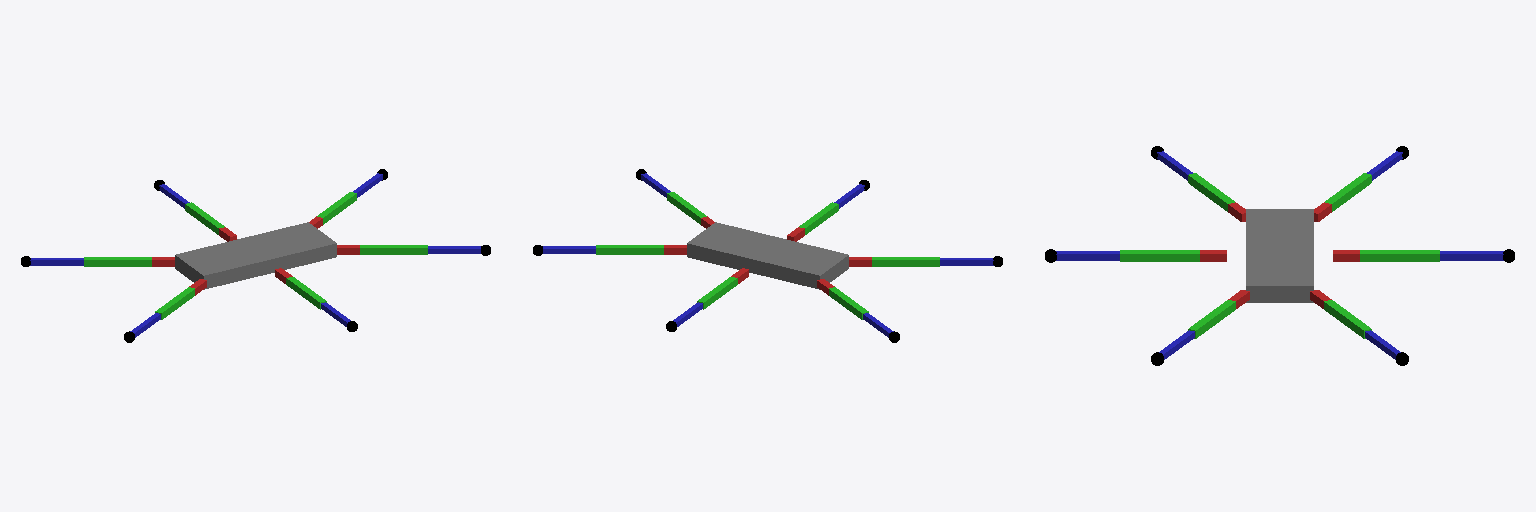
robot.urdf — slarc:
<?xml version="1.0"?>
<robot name="slarc">
    <link name="base_link">
        <visual><geometry><box size="0.4 0.15 0.04"/></geometry><material name="grey"><color rgba="0.5 0.5 0.5 1"/></material></visual>
        <collision><geometry><box size="0.4 0.15 0.04"/></geometry></collision>
        <inertial><mass value="1.29"/><inertia ixx="0.015" ixy="0" ixz="0" iyy="0.015" iyz="0" izz="0.015"/></inertial>
    </link>
    <joint name="front_right_coxa_joint" type="revolute">
        <parent link="base_link"/><child link="front_right_coxa"/>
        <origin xyz="0.2 -0.075 0" rpy="0 0 -0.5235987755982988"/><axis xyz="0 0 1"/>
        <limit lower="-3.14" upper="3.14" effort="3.0" velocity="3.14"/>
    </joint>
    <link name="front_right_coxa">
        <visual><origin xyz="0.03 0 0"/><geometry><box size="0.06 0.02 0.02"/></geometry><material name="red"><color rgba="0.8 0.2 0.2 1"/></material></visual>
        <collision><origin xyz="0.03 0 0"/><geometry><box size="0.06 0.02 0.02"/></geometry></collision>
        <inertial><mass value="0.080"/><inertia ixx="0.0002" ixy="0" ixz="0" iyy="0.0002" iyz="0" izz="0.0002"/></inertial>
    </link>
    <joint name="front_right_femur_joint" type="revolute">
        <parent link="front_right_coxa"/><child link="front_right_femur"/>
        <origin xyz="0.06 0 0" rpy="0 0 0"/><axis xyz="0 1 0"/>
        <limit lower="-3.14" upper="3.14" effort="3.0" velocity="3.14"/>
    </joint>
    <link name="front_right_femur">
        <visual><origin xyz="0.0875 0 0"/><geometry><box size="0.175 0.02 0.02"/></geometry><material name="green"><color rgba="0.2 0.8 0.2 1"/></material></visual>
        <collision><origin xyz="0.0875 0 0"/><geometry><box size="0.175 0.02 0.02"/></geometry></collision>
        <inertial><mass value="0.095"/><inertia ixx="0.0003" ixy="0" ixz="0" iyy="0.0003" iyz="0" izz="0.0003"/></inertial>
    </link>
    <joint name="front_right_tibia_joint" type="revolute">
        <parent link="front_right_femur"/><child link="front_right_tibia"/>
        <origin xyz="0.175 0 0" rpy="0 0 0"/><axis xyz="0 1 0"/>
        <limit lower="-3.14" upper="3.14" effort="3.0" velocity="3.14"/>
    </joint>
    <link name="front_right_tibia">
        <visual><origin xyz="0.075 0 0"/><geometry><box size="0.15 0.015 0.015"/></geometry><material name="blue"><color rgba="0.2 0.2 0.8 1"/></material></visual>
        <collision><origin xyz="0.075 0 0"/><geometry><box size="0.15 0.015 0.015"/></geometry></collision>
        <inertial><mass value="0.025"/><inertia ixx="0.0001" ixy="0" ixz="0" iyy="0.0001" iyz="0" izz="0.0001"/></inertial>
    </link>
    <joint name="front_right_foot_joint" type="fixed">
        <parent link="front_right_tibia"/><child link="front_right_foot"/>
        <origin xyz="0.15 0 0" rpy="0 0 0"/>
    </joint>
    <link name="front_right_foot">
        <visual><geometry><sphere radius="0.015"/></geometry><material name="black"><color rgba="0 0 0 1"/></material></visual>
        <collision><geometry><sphere radius="0.015"/></geometry></collision>
        <inertial><mass value="0.015"/><inertia ixx="0.00002" ixy="0" ixz="0" iyy="0.00002" iyz="0" izz="0.00002"/></inertial>
    </link>
    <joint name="front_left_coxa_joint" type="revolute">
        <parent link="base_link"/><child link="front_left_coxa"/>
        <origin xyz="0.2 0.075 0" rpy="0 0 0.5235987755982988"/><axis xyz="0 0 1"/>
        <limit lower="-3.14" upper="3.14" effort="3.0" velocity="3.14"/>
    </joint>
    <link name="front_left_coxa">
        <visual><origin xyz="0.03 0 0"/><geometry><box size="0.06 0.02 0.02"/></geometry><material name="red"><color rgba="0.8 0.2 0.2 1"/></material></visual>
        <collision><origin xyz="0.03 0 0"/><geometry><box size="0.06 0.02 0.02"/></geometry></collision>
        <inertial><mass value="0.080"/><inertia ixx="0.0002" ixy="0" ixz="0" iyy="0.0002" iyz="0" izz="0.0002"/></inertial>
    </link>
    <joint name="front_left_femur_joint" type="revolute">
        <parent link="front_left_coxa"/><child link="front_left_femur"/>
        <origin xyz="0.06 0 0" rpy="0 0 0"/><axis xyz="0 1 0"/>
        <limit lower="-3.14" upper="3.14" effort="3.0" velocity="3.14"/>
    </joint>
    <link name="front_left_femur">
        <visual><origin xyz="0.0875 0 0"/><geometry><box size="0.175 0.02 0.02"/></geometry><material name="green"><color rgba="0.2 0.8 0.2 1"/></material></visual>
        <collision><origin xyz="0.0875 0 0"/><geometry><box size="0.175 0.02 0.02"/></geometry></collision>
        <inertial><mass value="0.095"/><inertia ixx="0.0003" ixy="0" ixz="0" iyy="0.0003" iyz="0" izz="0.0003"/></inertial>
    </link>
    <joint name="front_left_tibia_joint" type="revolute">
        <parent link="front_left_femur"/><child link="front_left_tibia"/>
        <origin xyz="0.175 0 0" rpy="0 0 0"/><axis xyz="0 1 0"/>
        <limit lower="-3.14" upper="3.14" effort="3.0" velocity="3.14"/>
    </joint>
    <link name="front_left_tibia">
        <visual><origin xyz="0.075 0 0"/><geometry><box size="0.15 0.015 0.015"/></geometry><material name="blue"><color rgba="0.2 0.2 0.8 1"/></material></visual>
        <collision><origin xyz="0.075 0 0"/><geometry><box size="0.15 0.015 0.015"/></geometry></collision>
        <inertial><mass value="0.025"/><inertia ixx="0.0001" ixy="0" ixz="0" iyy="0.0001" iyz="0" izz="0.0001"/></inertial>
    </link>
    <joint name="front_left_foot_joint" type="fixed">
        <parent link="front_left_tibia"/><child link="front_left_foot"/>
        <origin xyz="0.15 0 0" rpy="0 0 0"/>
    </joint>
    <link name="front_left_foot">
        <visual><geometry><sphere radius="0.015"/></geometry><material name="black"><color rgba="0 0 0 1"/></material></visual>
        <collision><geometry><sphere radius="0.015"/></geometry></collision>
        <inertial><mass value="0.015"/><inertia ixx="0.00002" ixy="0" ixz="0" iyy="0.00002" iyz="0" izz="0.00002"/></inertial>
    </link>
    <joint name="mid_right_coxa_joint" type="revolute">
        <parent link="base_link"/><child link="mid_right_coxa"/>
        <origin xyz="0 -0.11499999999999999 0" rpy="0 0 -1.5707963267948966"/><axis xyz="0 0 1"/>
        <limit lower="-3.14" upper="3.14" effort="3.0" velocity="3.14"/>
    </joint>
    <link name="mid_right_coxa">
        <visual><origin xyz="0.03 0 0"/><geometry><box size="0.06 0.02 0.02"/></geometry><material name="red"><color rgba="0.8 0.2 0.2 1"/></material></visual>
        <collision><origin xyz="0.03 0 0"/><geometry><box size="0.06 0.02 0.02"/></geometry></collision>
        <inertial><mass value="0.080"/><inertia ixx="0.0002" ixy="0" ixz="0" iyy="0.0002" iyz="0" izz="0.0002"/></inertial>
    </link>
    <joint name="mid_right_femur_joint" type="revolute">
        <parent link="mid_right_coxa"/><child link="mid_right_femur"/>
        <origin xyz="0.06 0 0" rpy="0 0 0"/><axis xyz="0 1 0"/>
        <limit lower="-3.14" upper="3.14" effort="3.0" velocity="3.14"/>
    </joint>
    <link name="mid_right_femur">
        <visual><origin xyz="0.0875 0 0"/><geometry><box size="0.175 0.02 0.02"/></geometry><material name="green"><color rgba="0.2 0.8 0.2 1"/></material></visual>
        <collision><origin xyz="0.0875 0 0"/><geometry><box size="0.175 0.02 0.02"/></geometry></collision>
        <inertial><mass value="0.095"/><inertia ixx="0.0003" ixy="0" ixz="0" iyy="0.0003" iyz="0" izz="0.0003"/></inertial>
    </link>
    <joint name="mid_right_tibia_joint" type="revolute">
        <parent link="mid_right_femur"/><child link="mid_right_tibia"/>
        <origin xyz="0.175 0 0" rpy="0 0 0"/><axis xyz="0 1 0"/>
        <limit lower="-3.14" upper="3.14" effort="3.0" velocity="3.14"/>
    </joint>
    <link name="mid_right_tibia">
        <visual><origin xyz="0.075 0 0"/><geometry><box size="0.15 0.015 0.015"/></geometry><material name="blue"><color rgba="0.2 0.2 0.8 1"/></material></visual>
        <collision><origin xyz="0.075 0 0"/><geometry><box size="0.15 0.015 0.015"/></geometry></collision>
        <inertial><mass value="0.025"/><inertia ixx="0.0001" ixy="0" ixz="0" iyy="0.0001" iyz="0" izz="0.0001"/></inertial>
    </link>
    <joint name="mid_right_foot_joint" type="fixed">
        <parent link="mid_right_tibia"/><child link="mid_right_foot"/>
        <origin xyz="0.15 0 0" rpy="0 0 0"/>
    </joint>
    <link name="mid_right_foot">
        <visual><geometry><sphere radius="0.015"/></geometry><material name="black"><color rgba="0 0 0 1"/></material></visual>
        <collision><geometry><sphere radius="0.015"/></geometry></collision>
        <inertial><mass value="0.015"/><inertia ixx="0.00002" ixy="0" ixz="0" iyy="0.00002" iyz="0" izz="0.00002"/></inertial>
    </link>
    <joint name="mid_left_coxa_joint" type="revolute">
        <parent link="base_link"/><child link="mid_left_coxa"/>
        <origin xyz="0 0.11499999999999999 0" rpy="0 0 1.5707963267948966"/><axis xyz="0 0 1"/>
        <limit lower="-3.14" upper="3.14" effort="3.0" velocity="3.14"/>
    </joint>
    <link name="mid_left_coxa">
        <visual><origin xyz="0.03 0 0"/><geometry><box size="0.06 0.02 0.02"/></geometry><material name="red"><color rgba="0.8 0.2 0.2 1"/></material></visual>
        <collision><origin xyz="0.03 0 0"/><geometry><box size="0.06 0.02 0.02"/></geometry></collision>
        <inertial><mass value="0.080"/><inertia ixx="0.0002" ixy="0" ixz="0" iyy="0.0002" iyz="0" izz="0.0002"/></inertial>
    </link>
    <joint name="mid_left_femur_joint" type="revolute">
        <parent link="mid_left_coxa"/><child link="mid_left_femur"/>
        <origin xyz="0.06 0 0" rpy="0 0 0"/><axis xyz="0 1 0"/>
        <limit lower="-3.14" upper="3.14" effort="3.0" velocity="3.14"/>
    </joint>
    <link name="mid_left_femur">
        <visual><origin xyz="0.0875 0 0"/><geometry><box size="0.175 0.02 0.02"/></geometry><material name="green"><color rgba="0.2 0.8 0.2 1"/></material></visual>
        <collision><origin xyz="0.0875 0 0"/><geometry><box size="0.175 0.02 0.02"/></geometry></collision>
        <inertial><mass value="0.095"/><inertia ixx="0.0003" ixy="0" ixz="0" iyy="0.0003" iyz="0" izz="0.0003"/></inertial>
    </link>
    <joint name="mid_left_tibia_joint" type="revolute">
        <parent link="mid_left_femur"/><child link="mid_left_tibia"/>
        <origin xyz="0.175 0 0" rpy="0 0 0"/><axis xyz="0 1 0"/>
        <limit lower="-3.14" upper="3.14" effort="3.0" velocity="3.14"/>
    </joint>
    <link name="mid_left_tibia">
        <visual><origin xyz="0.075 0 0"/><geometry><box size="0.15 0.015 0.015"/></geometry><material name="blue"><color rgba="0.2 0.2 0.8 1"/></material></visual>
        <collision><origin xyz="0.075 0 0"/><geometry><box size="0.15 0.015 0.015"/></geometry></collision>
        <inertial><mass value="0.025"/><inertia ixx="0.0001" ixy="0" ixz="0" iyy="0.0001" iyz="0" izz="0.0001"/></inertial>
    </link>
    <joint name="mid_left_foot_joint" type="fixed">
        <parent link="mid_left_tibia"/><child link="mid_left_foot"/>
        <origin xyz="0.15 0 0" rpy="0 0 0"/>
    </joint>
    <link name="mid_left_foot">
        <visual><geometry><sphere radius="0.015"/></geometry><material name="black"><color rgba="0 0 0 1"/></material></visual>
        <collision><geometry><sphere radius="0.015"/></geometry></collision>
        <inertial><mass value="0.015"/><inertia ixx="0.00002" ixy="0" ixz="0" iyy="0.00002" iyz="0" izz="0.00002"/></inertial>
    </link>
    <joint name="rear_right_coxa_joint" type="revolute">
        <parent link="base_link"/><child link="rear_right_coxa"/>
        <origin xyz="-0.2 -0.075 0" rpy="0 0 -2.6179938779914944"/><axis xyz="0 0 1"/>
        <limit lower="-3.14" upper="3.14" effort="3.0" velocity="3.14"/>
    </joint>
    <link name="rear_right_coxa">
        <visual><origin xyz="0.03 0 0"/><geometry><box size="0.06 0.02 0.02"/></geometry><material name="red"><color rgba="0.8 0.2 0.2 1"/></material></visual>
        <collision><origin xyz="0.03 0 0"/><geometry><box size="0.06 0.02 0.02"/></geometry></collision>
        <inertial><mass value="0.080"/><inertia ixx="0.0002" ixy="0" ixz="0" iyy="0.0002" iyz="0" izz="0.0002"/></inertial>
    </link>
    <joint name="rear_right_femur_joint" type="revolute">
        <parent link="rear_right_coxa"/><child link="rear_right_femur"/>
        <origin xyz="0.06 0 0" rpy="0 0 0"/><axis xyz="0 1 0"/>
        <limit lower="-3.14" upper="3.14" effort="3.0" velocity="3.14"/>
    </joint>
    <link name="rear_right_femur">
        <visual><origin xyz="0.0875 0 0"/><geometry><box size="0.175 0.02 0.02"/></geometry><material name="green"><color rgba="0.2 0.8 0.2 1"/></material></visual>
        <collision><origin xyz="0.0875 0 0"/><geometry><box size="0.175 0.02 0.02"/></geometry></collision>
        <inertial><mass value="0.095"/><inertia ixx="0.0003" ixy="0" ixz="0" iyy="0.0003" iyz="0" izz="0.0003"/></inertial>
    </link>
    <joint name="rear_right_tibia_joint" type="revolute">
        <parent link="rear_right_femur"/><child link="rear_right_tibia"/>
        <origin xyz="0.175 0 0" rpy="0 0 0"/><axis xyz="0 1 0"/>
        <limit lower="-3.14" upper="3.14" effort="3.0" velocity="3.14"/>
    </joint>
    <link name="rear_right_tibia">
        <visual><origin xyz="0.075 0 0"/><geometry><box size="0.15 0.015 0.015"/></geometry><material name="blue"><color rgba="0.2 0.2 0.8 1"/></material></visual>
        <collision><origin xyz="0.075 0 0"/><geometry><box size="0.15 0.015 0.015"/></geometry></collision>
        <inertial><mass value="0.025"/><inertia ixx="0.0001" ixy="0" ixz="0" iyy="0.0001" iyz="0" izz="0.0001"/></inertial>
    </link>
    <joint name="rear_right_foot_joint" type="fixed">
        <parent link="rear_right_tibia"/><child link="rear_right_foot"/>
        <origin xyz="0.15 0 0" rpy="0 0 0"/>
    </joint>
    <link name="rear_right_foot">
        <visual><geometry><sphere radius="0.015"/></geometry><material name="black"><color rgba="0 0 0 1"/></material></visual>
        <collision><geometry><sphere radius="0.015"/></geometry></collision>
        <inertial><mass value="0.015"/><inertia ixx="0.00002" ixy="0" ixz="0" iyy="0.00002" iyz="0" izz="0.00002"/></inertial>
    </link>
    <joint name="rear_left_coxa_joint" type="revolute">
        <parent link="base_link"/><child link="rear_left_coxa"/>
        <origin xyz="-0.2 0.075 0" rpy="0 0 2.6179938779914944"/><axis xyz="0 0 1"/>
        <limit lower="-3.14" upper="3.14" effort="3.0" velocity="3.14"/>
    </joint>
    <link name="rear_left_coxa">
        <visual><origin xyz="0.03 0 0"/><geometry><box size="0.06 0.02 0.02"/></geometry><material name="red"><color rgba="0.8 0.2 0.2 1"/></material></visual>
        <collision><origin xyz="0.03 0 0"/><geometry><box size="0.06 0.02 0.02"/></geometry></collision>
        <inertial><mass value="0.080"/><inertia ixx="0.0002" ixy="0" ixz="0" iyy="0.0002" iyz="0" izz="0.0002"/></inertial>
    </link>
    <joint name="rear_left_femur_joint" type="revolute">
        <parent link="rear_left_coxa"/><child link="rear_left_femur"/>
        <origin xyz="0.06 0 0" rpy="0 0 0"/><axis xyz="0 1 0"/>
        <limit lower="-3.14" upper="3.14" effort="3.0" velocity="3.14"/>
    </joint>
    <link name="rear_left_femur">
        <visual><origin xyz="0.0875 0 0"/><geometry><box size="0.175 0.02 0.02"/></geometry><material name="green"><color rgba="0.2 0.8 0.2 1"/></material></visual>
        <collision><origin xyz="0.0875 0 0"/><geometry><box size="0.175 0.02 0.02"/></geometry></collision>
        <inertial><mass value="0.095"/><inertia ixx="0.0003" ixy="0" ixz="0" iyy="0.0003" iyz="0" izz="0.0003"/></inertial>
    </link>
    <joint name="rear_left_tibia_joint" type="revolute">
        <parent link="rear_left_femur"/><child link="rear_left_tibia"/>
        <origin xyz="0.175 0 0" rpy="0 0 0"/><axis xyz="0 1 0"/>
        <limit lower="-3.14" upper="3.14" effort="3.0" velocity="3.14"/>
    </joint>
    <link name="rear_left_tibia">
        <visual><origin xyz="0.075 0 0"/><geometry><box size="0.15 0.015 0.015"/></geometry><material name="blue"><color rgba="0.2 0.2 0.8 1"/></material></visual>
        <collision><origin xyz="0.075 0 0"/><geometry><box size="0.15 0.015 0.015"/></geometry></collision>
        <inertial><mass value="0.025"/><inertia ixx="0.0001" ixy="0" ixz="0" iyy="0.0001" iyz="0" izz="0.0001"/></inertial>
    </link>
    <joint name="rear_left_foot_joint" type="fixed">
        <parent link="rear_left_tibia"/><child link="rear_left_foot"/>
        <origin xyz="0.15 0 0" rpy="0 0 0"/>
    </joint>
    <link name="rear_left_foot">
        <visual><geometry><sphere radius="0.015"/></geometry><material name="black"><color rgba="0 0 0 1"/></material></visual>
        <collision><geometry><sphere radius="0.015"/></geometry></collision>
        <inertial><mass value="0.015"/><inertia ixx="0.00002" ixy="0" ixz="0" iyy="0.00002" iyz="0" izz="0.00002"/></inertial>
    </link></robot>

--- Render facts (derived) ---
The picture shows the robot from 3 angles, left to right: view 1: azimuth 30°, elevation 25°; view 2: azimuth 150°, elevation 25°; view 3: azimuth 270°, elevation 25°; orthographic projection.
Model slarc with 25 links and 24 joints (18 revolute, 6 fixed), rooted at base_link, posed all joints at 0.
Links seen in each view (by area): view 1: base_link, front_right_femur, rear_left_femur; view 2: base_link, front_left_femur, rear_right_femur; view 3: base_link, mid_right_femur, mid_left_femur, front_right_femur, front_left_femur, rear_right_femur, rear_left_femur, mid_right_tibia, mid_left_tibia.
Boxes of the visible links, box(x1,y1,x2,y2) form: base_link: box(175, 222, 336, 289); front_right_femur: box(360, 245, 427, 254); rear_left_femur: box(84, 257, 151, 266); base_link: box(687, 222, 848, 289); front_left_femur: box(596, 245, 663, 254); rear_right_femur: box(872, 257, 939, 266); base_link: box(1246, 209, 1313, 302); mid_right_femur: box(1120, 250, 1199, 261); mid_left_femur: box(1360, 250, 1439, 261); front_right_femur: box(1188, 300, 1235, 338); front_left_femur: box(1324, 300, 1371, 338); rear_right_femur: box(1188, 173, 1234, 211); rear_left_femur: box(1325, 173, 1371, 211); mid_right_tibia: box(1056, 251, 1119, 260); mid_left_tibia: box(1440, 251, 1503, 260).
Size in the robot's own frame: 1.1 by 1.03 by 0.04 metres.
Geometry: primitives only (box / cylinder / sphere), no mesh files.
